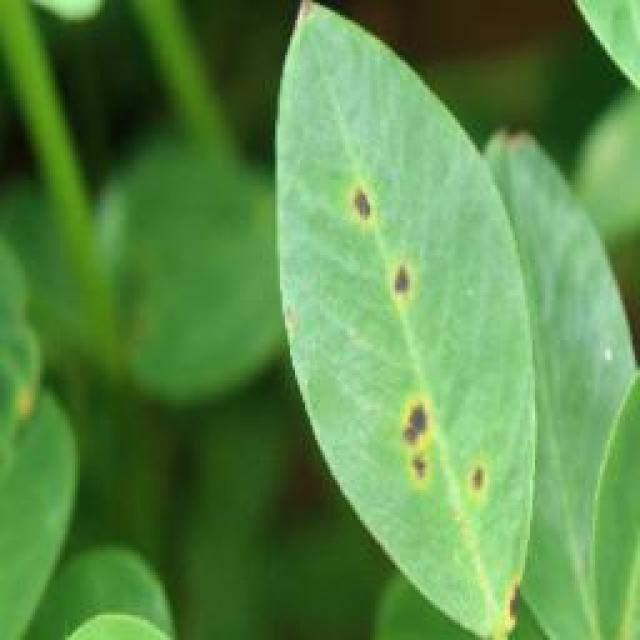Sigatoka: (362, 381, 451, 515), (440, 435, 538, 526), (351, 248, 442, 329), (324, 174, 398, 249)
